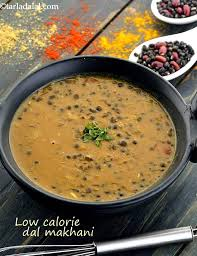curry: (11, 64, 179, 199)
